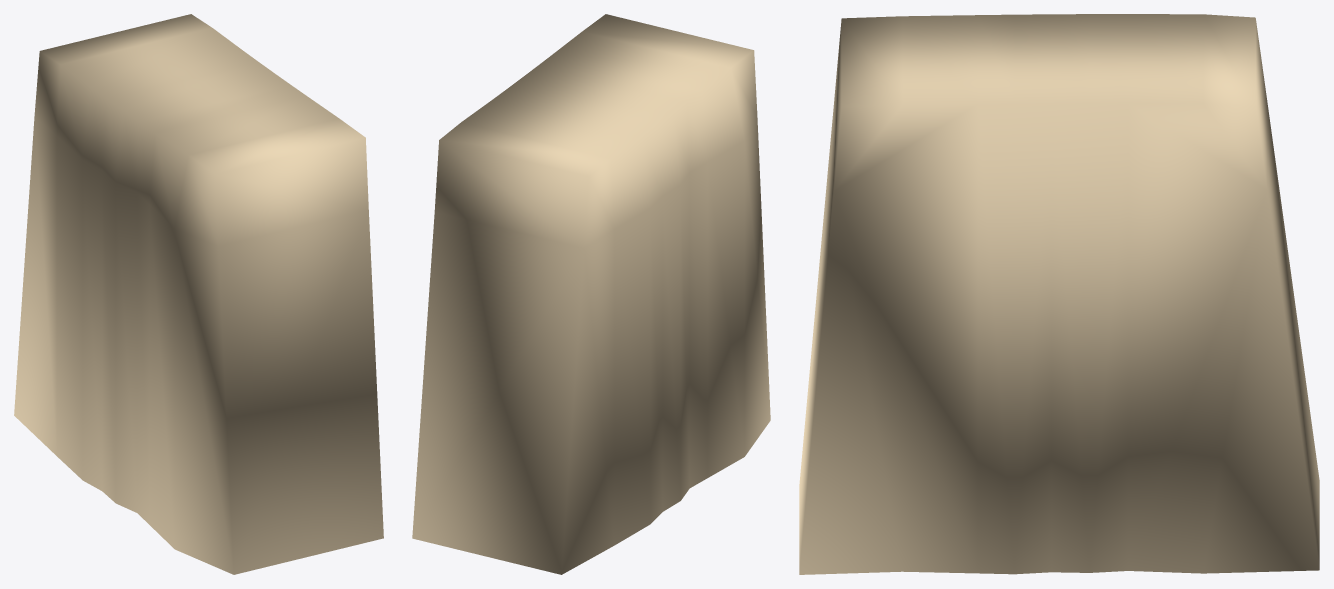
The model's file is Tronky 3 pieces.fbx.
3 views of the same model, side by side, from view 1: azimuth 30°, elevation 25°; view 2: azimuth 150°, elevation 25°; view 3: azimuth 270°, elevation 25° (orthographic). The views are drawn at different scales.
Parts seen in each view (by area): view 1: Cube.003; view 2: Cube.003; view 3: Cube.003.
Part boxes in pixels (<box>): Cube.003: <box>14,14,383,574</box>; Cube.003: <box>412,14,770,574</box>; Cube.003: <box>799,14,1319,574</box>.
Size of the model in its own units: 0.4451 by 1 by 0.9987.
